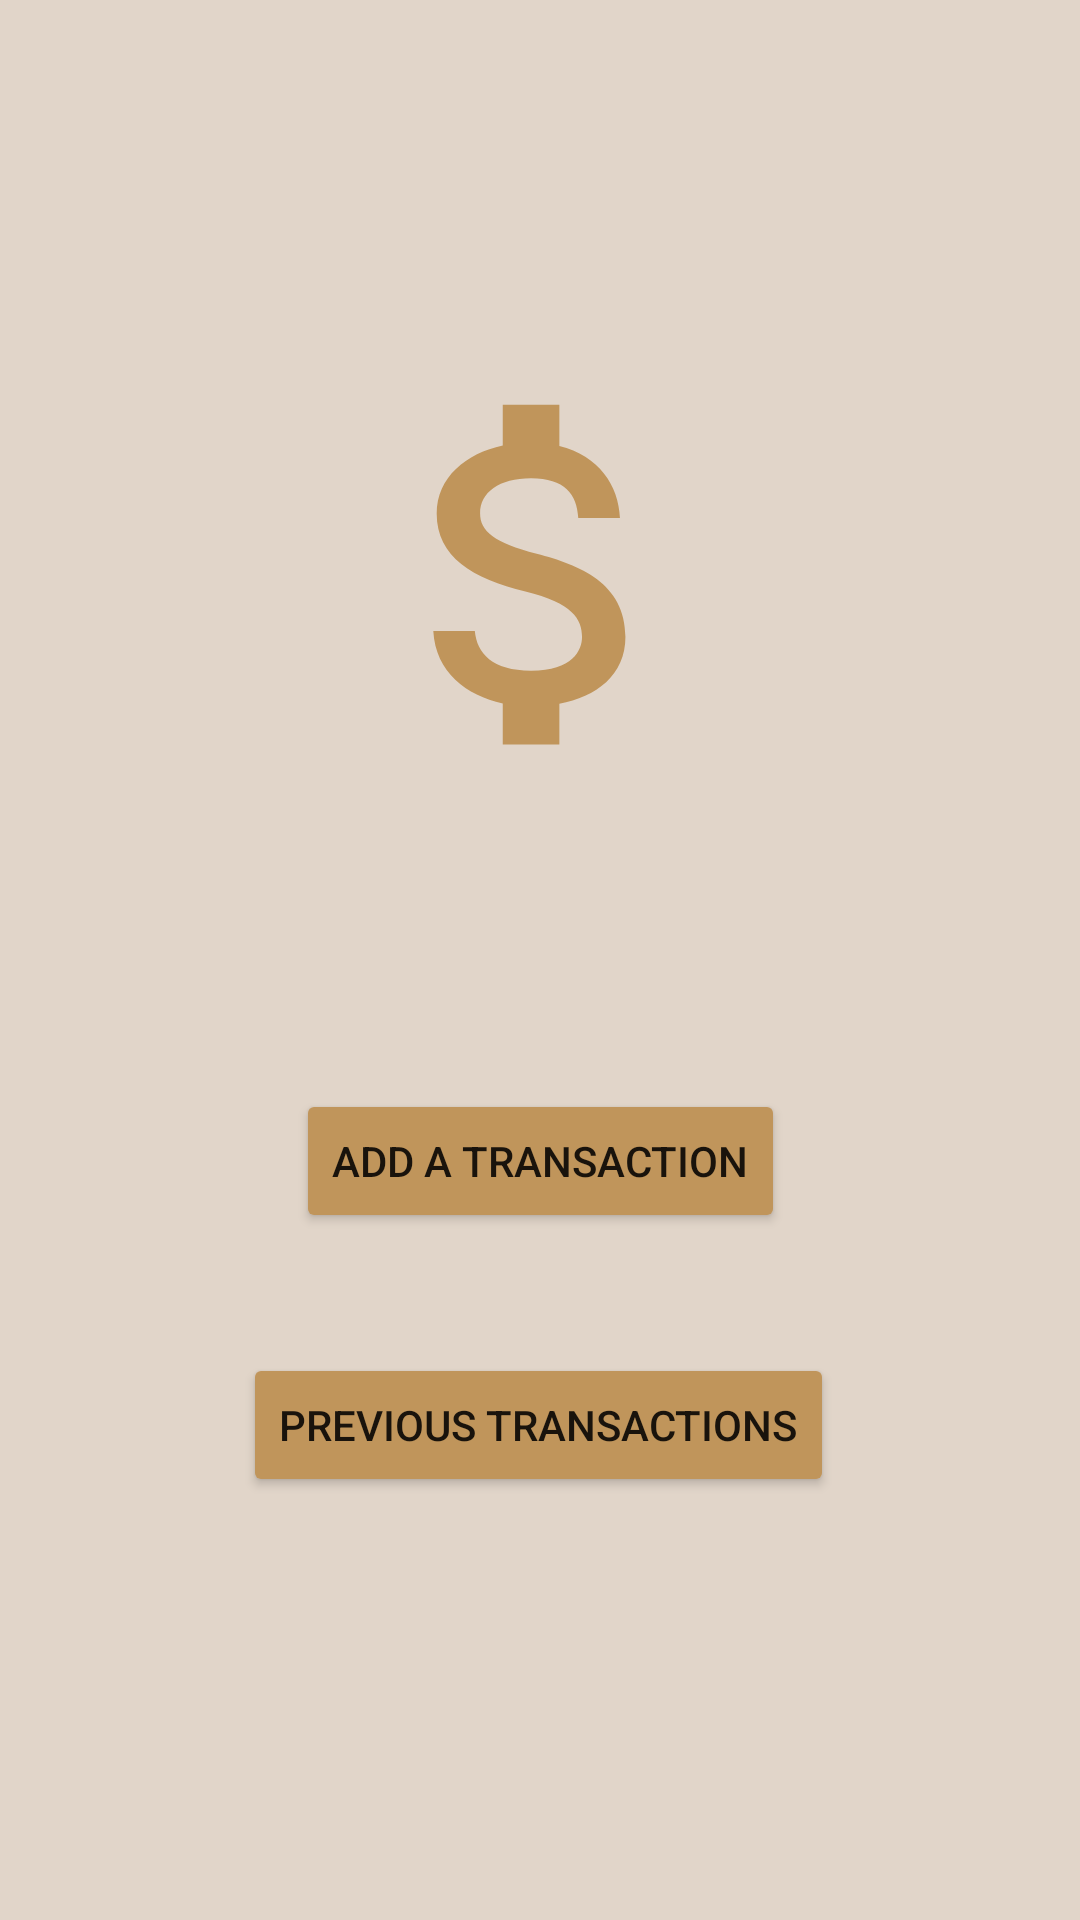

Where to tap for icons on this 1080x1920 app screen, as [x,y]:
attach money: [529,574]
